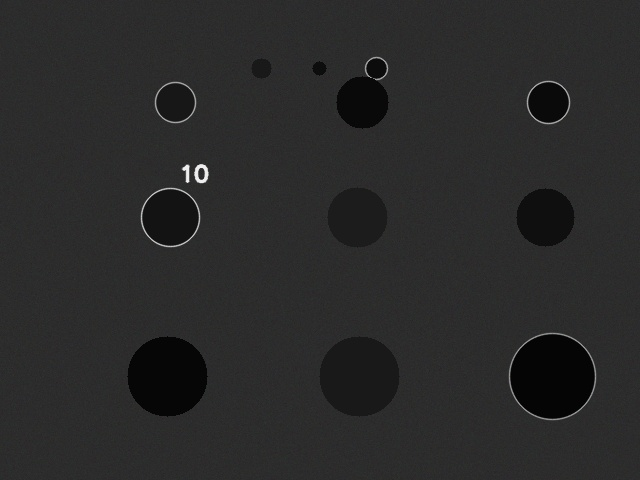hole: (509, 333, 595, 419), (127, 336, 207, 416), (319, 336, 399, 416), (327, 187, 387, 247), (141, 188, 199, 246), (516, 188, 574, 246), (336, 76, 388, 128), (527, 81, 569, 123), (155, 82, 195, 122), (365, 57, 387, 79), (251, 58, 271, 78), (312, 61, 326, 75)
